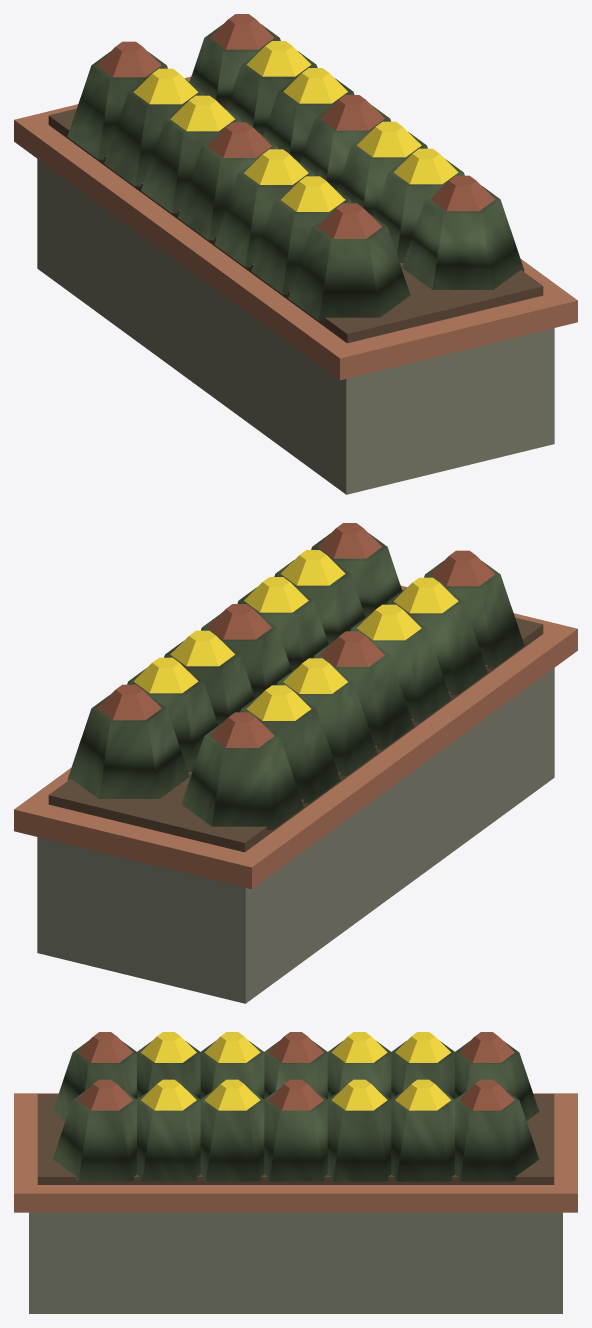
The model's file is planter.fbx.
The picture shows the model from 3 angles, top to bottom: view 1: azimuth 30°, elevation 25°; view 2: azimuth 150°, elevation 25°; view 3: azimuth 270°, elevation 25°; orthographic projection. The views are drawn at different scales.
Visible parts, largest first — view 1: planter; view 2: planter; view 3: planter.
Part boxes in pixels (bbox=[...]): planter: bbox=[14, 14, 577, 494]; planter: bbox=[14, 523, 577, 1003]; planter: bbox=[14, 1032, 577, 1313].
Bounding box in the file's own units: 0.8 × 0.78 × 1.9.
